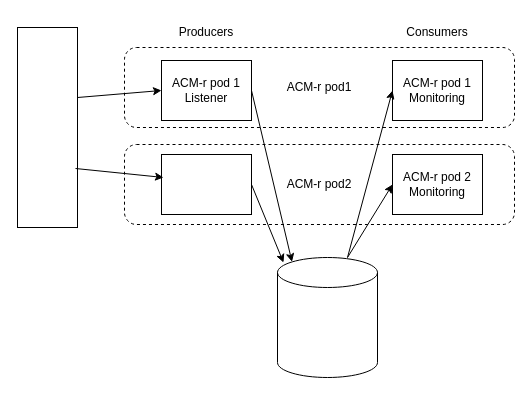
Image size: 532x395. Some labels were removed from this diagram. Here are the shapes that lost their labels. From the top down, the centre of each, then its label:
At (47,127): "Kafka".
At (206,184): "ACM-r pod 2 Listener".
At (327,317): "DB".
